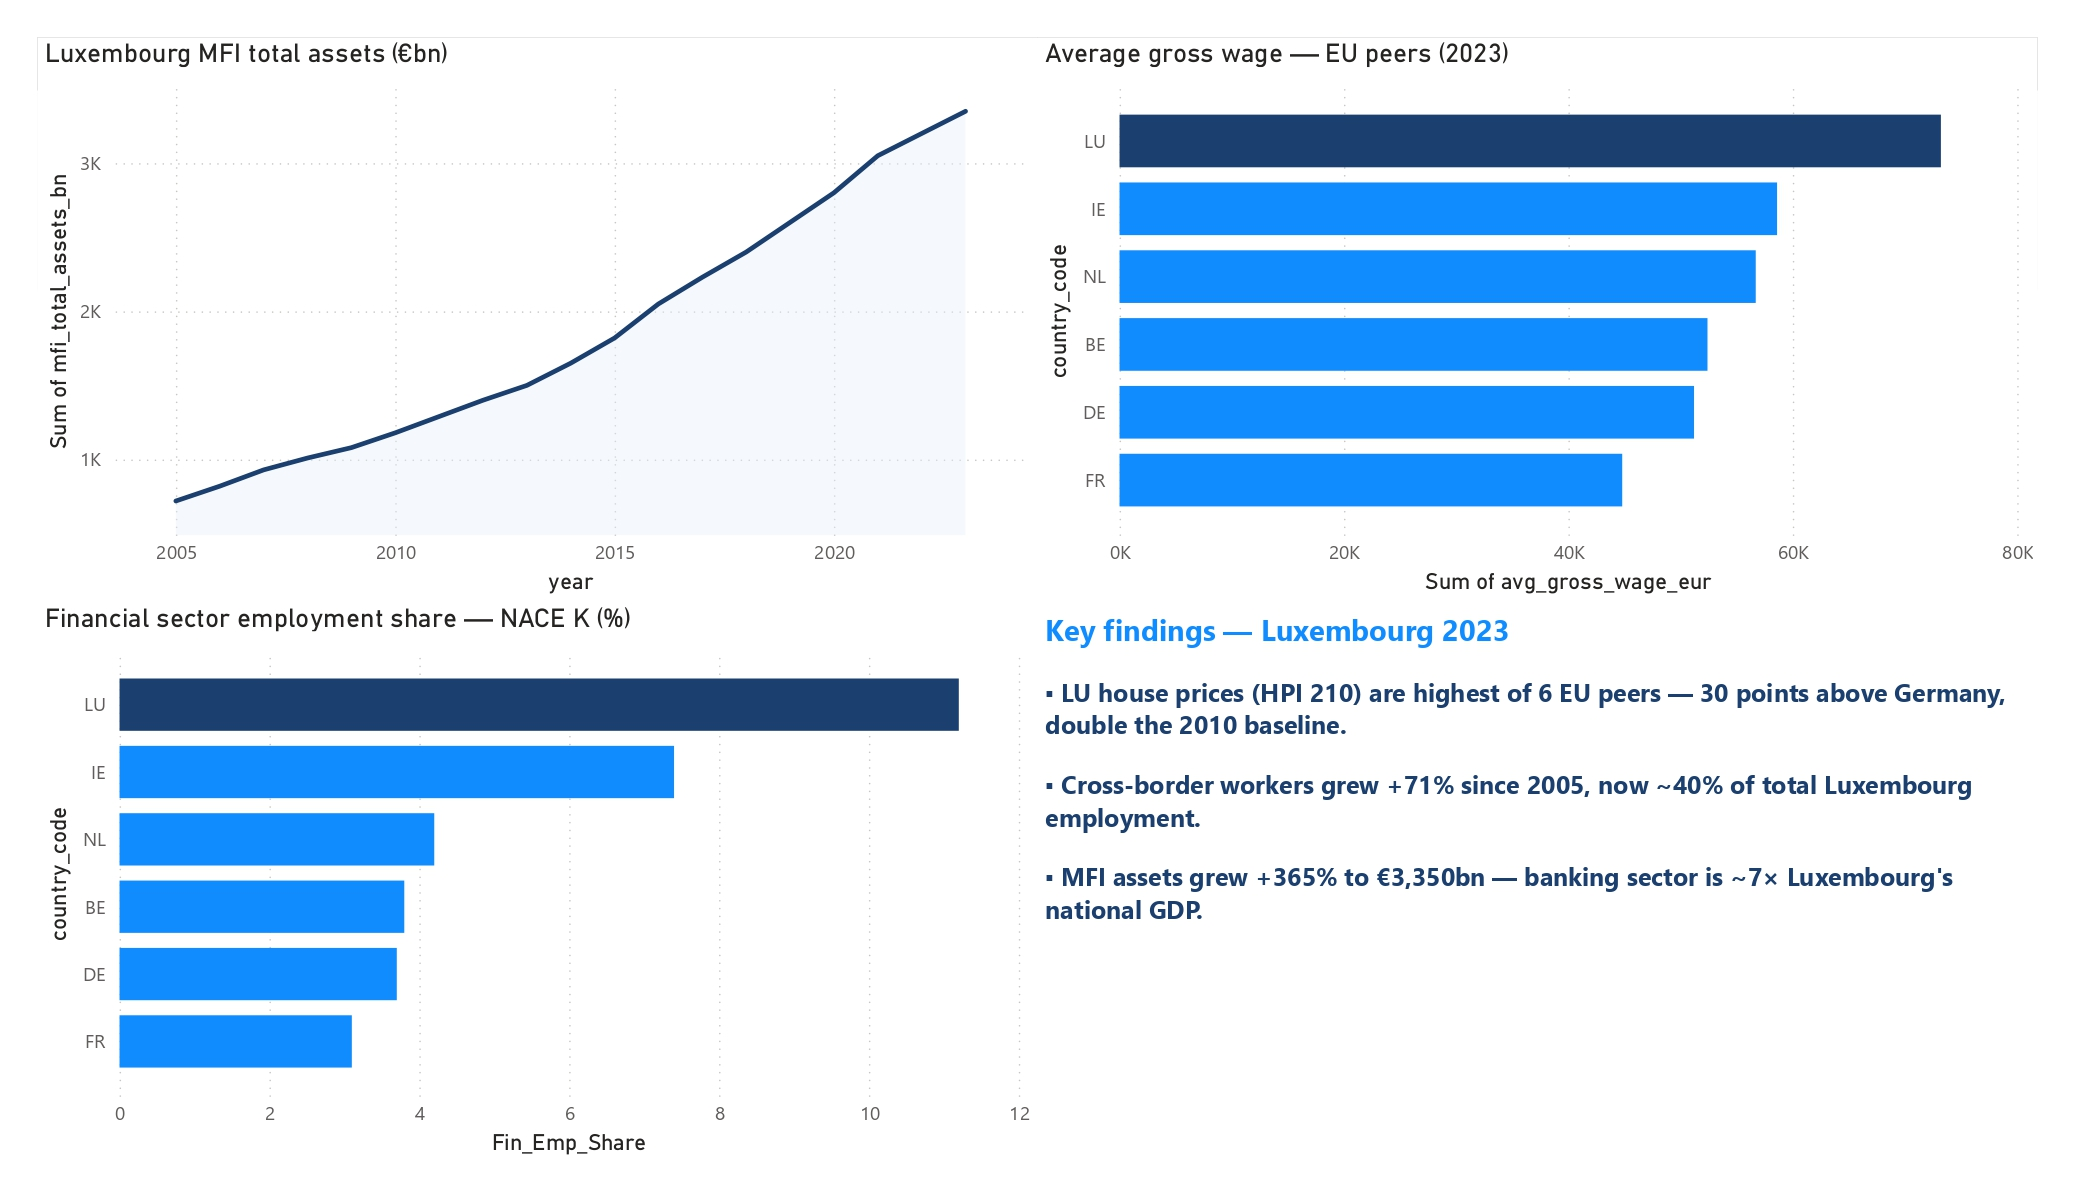

The dashboard page shown, as its layout file describes it:
{"tool":"powerbi","page":{"name":"Banking & Benchmarking","canvas":[1280,720],"ordinal":2},"visuals":[{"type":"areaChart","title":"Luxembourg MFI total assets (€bn)","fields":{"Category":["YearTable.year"],"Y":["Sum(banking_sector.mfi_total_assets_bn)"]},"box":[0,0,640,361],"z":0},{"type":"clusteredBarChart","title":"Average gross wage — EU peers (2023)","fields":{"Category":["wages.country_code"],"Y":["Sum(wages.avg_gross_wage_eur)"]},"box":[640,0,642.1,361],"z":1},{"type":"clusteredBarChart","title":"Financial sector employment share — NACE K (%)","fields":{"Category":["wages.country_code"],"Y":["wages.Fin_Emp_Share"]},"box":[0,361,640,359],"z":2},{"type":"textbox","box":[640,361,642.1,361],"z":5}]}

Visuals, with their boxes on the page's 1280x720 design canvas (x1, y1, x2, y2). These are canvas units, not pixel positions in the 2075x1200 screenshot, which may show the page scaled, cropped or inside an application window:
"Luxembourg MFI total assets (€bn)" areaChart: bbox=(0, 0, 640, 361)
"Average gross wage — EU peers (2023)" clusteredBarChart: bbox=(640, 0, 1282, 361)
"Financial sector employment share — NACE K (%)" clusteredBarChart: bbox=(0, 361, 640, 720)
textbox: bbox=(640, 361, 1282, 722)
